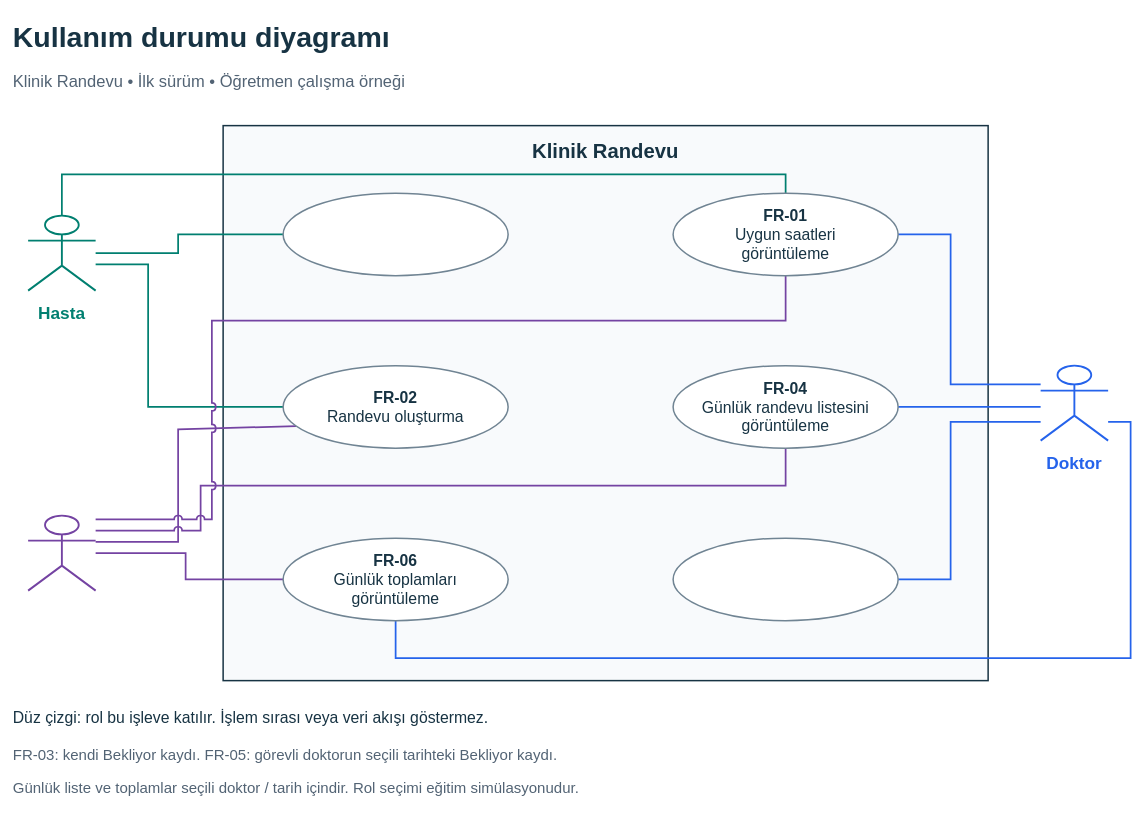
This 1145x813 diagram has some shape labels left out. Here are the shapes that lost their labels. From the top down, the box of each, then its label:
(282, 192, 508, 276): FR-03 Kendi randevusunu iptal etme
(27, 514, 96, 591): Resepsiyon
(672, 537, 898, 621): FR-05 Randevuyu tamamlama
